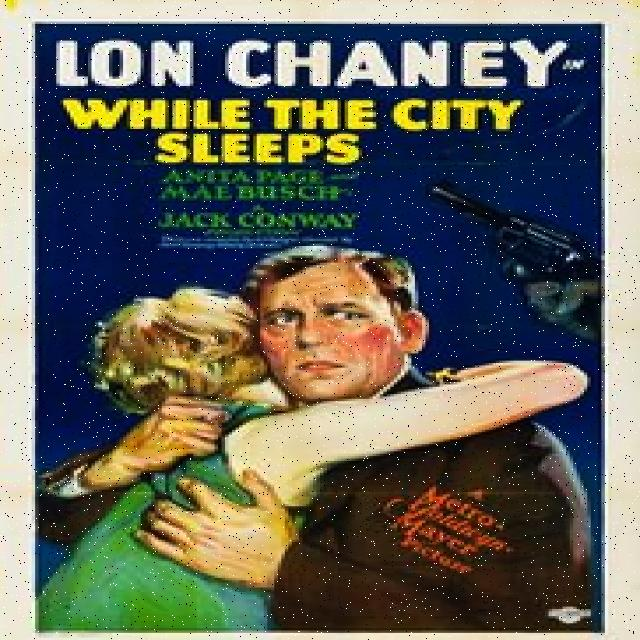movie-judul: (33, 88, 560, 164)
picture: (61, 238, 600, 630)
